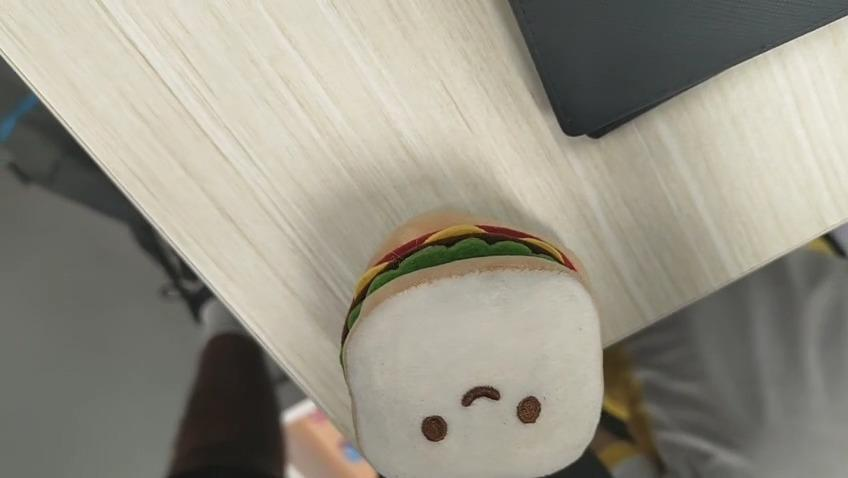objects: (344, 211, 604, 477)
